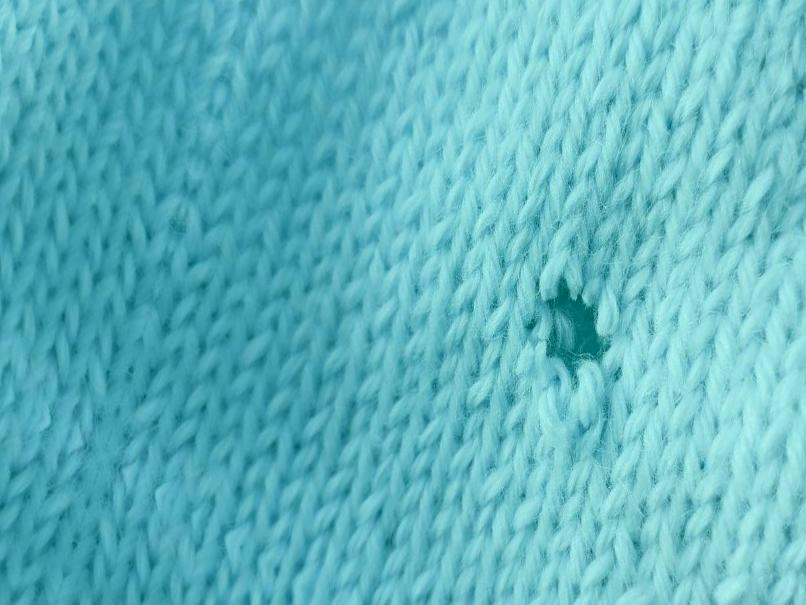hole: (528, 272, 620, 384)
